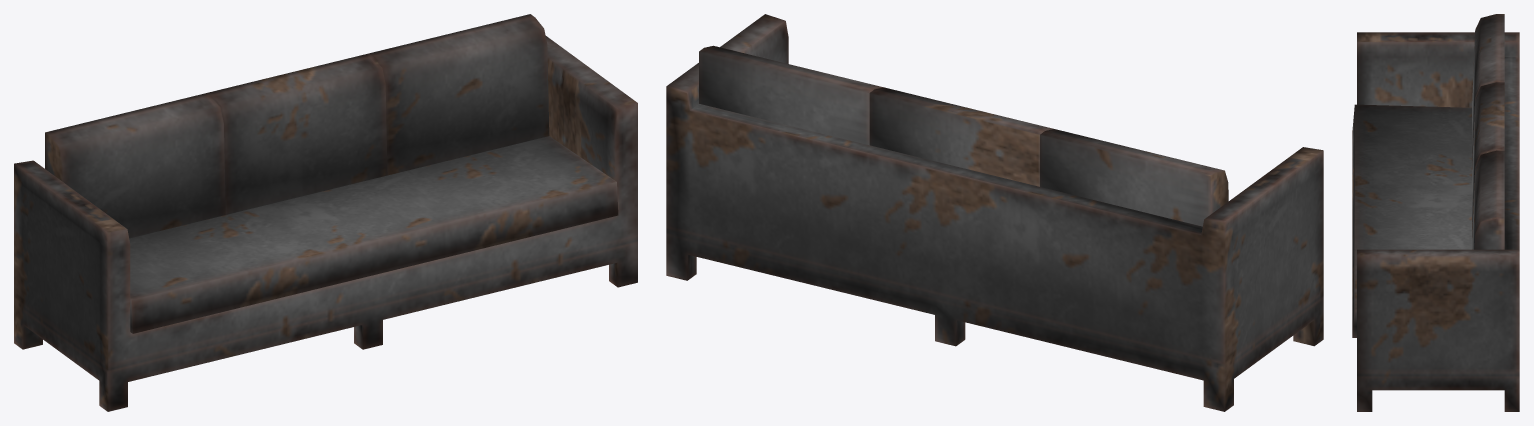
Rendered from sofa.fbx.
3 views of the same model, side by side, from view 1: azimuth 30°, elevation 25°; view 2: azimuth 150°, elevation 25°; view 3: azimuth 270°, elevation 25° (orthographic). The views are drawn at different scales.
Parts seen in each view (by area): view 1: Object_2; view 2: Object_2; view 3: Object_2.
Part boxes in pixels (box(x1,y1,x2,y2)): Object_2: box(14, 14, 637, 411); Object_2: box(666, 14, 1323, 411); Object_2: box(1352, 14, 1519, 411).
Size of the model in its own units: 167 by 63.69 by 52.68.
1 material, 1 textured.
